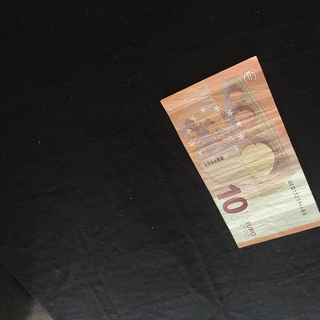10EUROBack: (159, 55, 320, 248)
